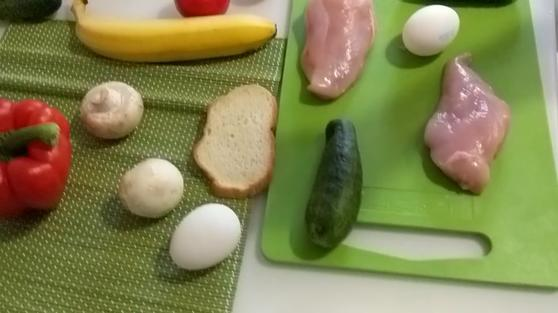banana: (70, 1, 277, 67)
champignon: (119, 157, 185, 218), (80, 79, 145, 139)
chicken_fillet: (425, 51, 512, 195), (305, 2, 376, 100)
cucumber: (305, 119, 361, 247)
egg: (168, 203, 243, 271), (400, 4, 460, 56)
pepper: (2, 99, 73, 217)
white_bread: (194, 82, 276, 199)
